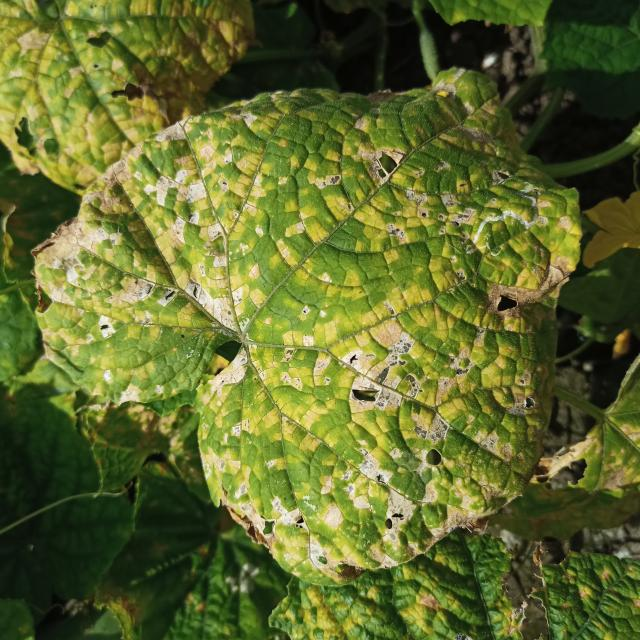disease_cucumber: (46, 78, 566, 573), (0, 0, 255, 175)
